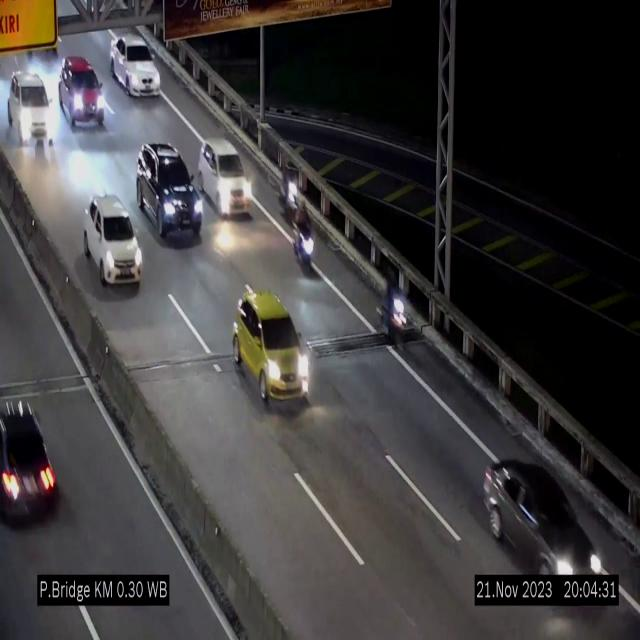Car: (482, 458, 604, 576), (233, 287, 310, 410), (0, 379, 57, 533), (137, 144, 203, 240), (84, 197, 142, 286), (199, 139, 254, 217), (58, 53, 108, 134), (8, 75, 54, 152), (110, 29, 160, 96)
Motorcycle: (384, 281, 409, 361), (295, 199, 313, 277), (282, 162, 298, 228)
